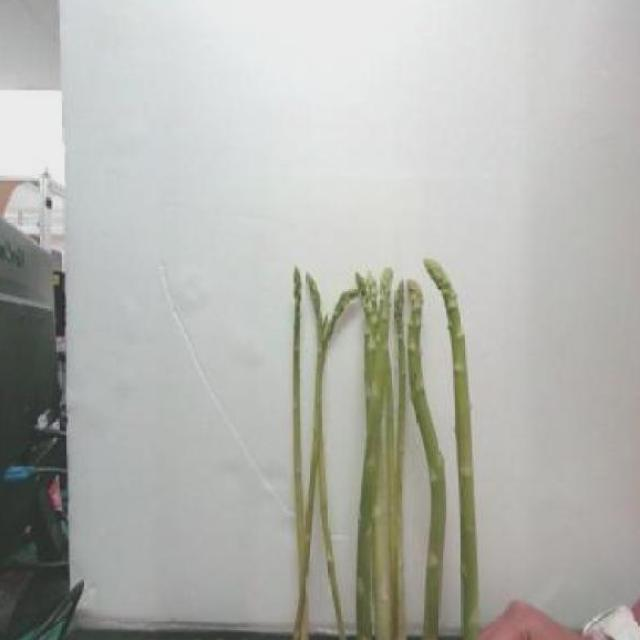aspargus: (424, 258, 480, 640)
